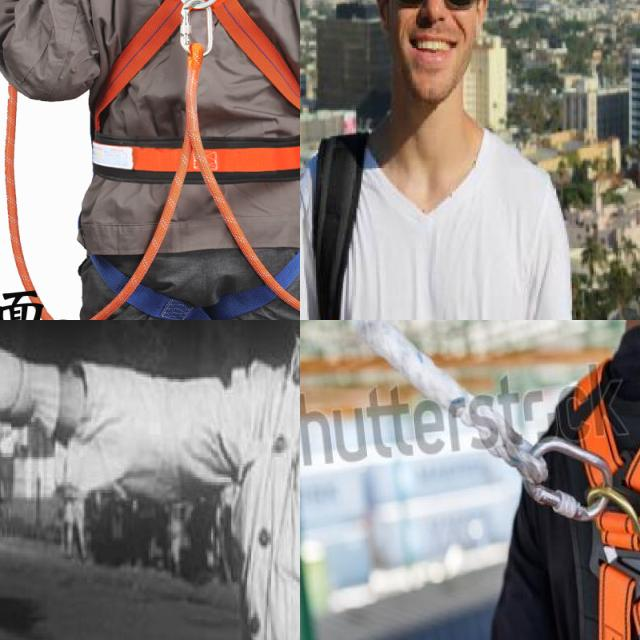Harness: (88, 0, 300, 309), (573, 363, 640, 640)
face_nomask: (385, 0, 482, 69)
hand_glove: (0, 343, 39, 443)
person: (300, 0, 579, 320), (197, 320, 300, 640)
